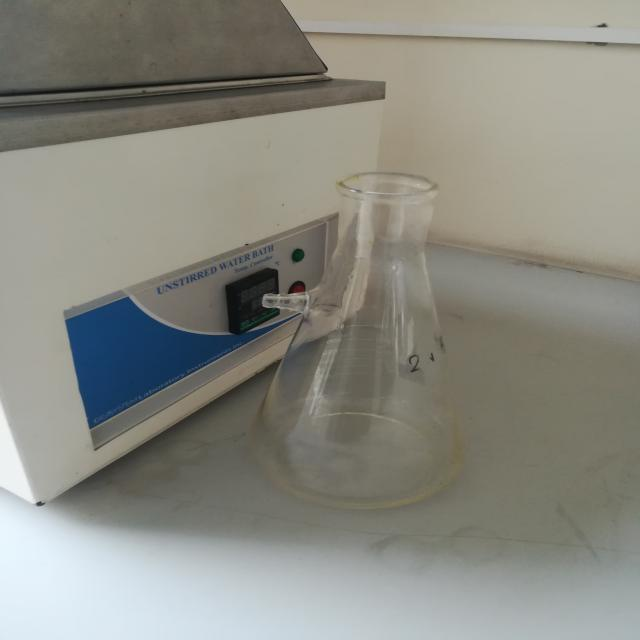Conical_Flask: (230, 151, 504, 548)
